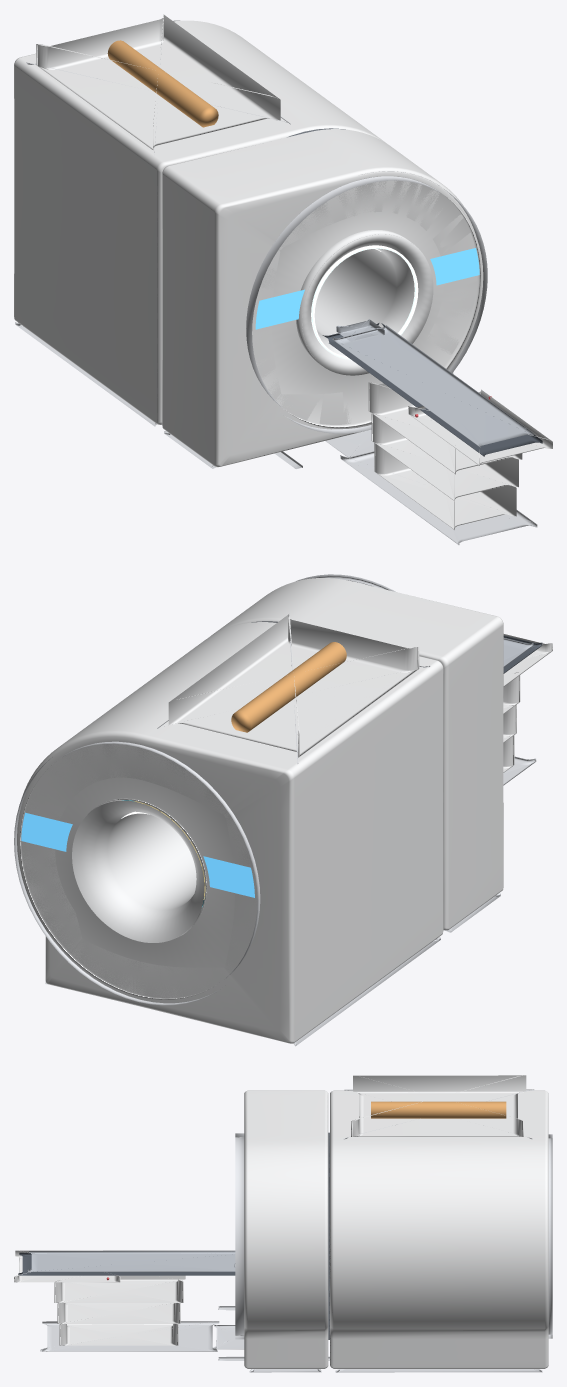
File: uexplorer.glb
3 renders of one model, top to bottom at view 1: azimuth 30°, elevation 25°; view 2: azimuth 150°, elevation 25°; view 3: azimuth 270°, elevation 25°, orthographic. The views are drawn at different scales.
Visible parts, largest first — view 1: Gantry_Shell_Main, CT_Shell_Main, Medallion_White_Face, Bore_Lining, Table_Mattress, Gantry_Top_Cryo_Shroud, Table_Column_Tier1, Table_Column_Tier2, Medallion_Silver_Collar, Table_Column_Tier3, PET_Water_Cooling_Manifold, Table_Silver_Floor_Plate (+7 smaller); view 2: Gantry_Shell_Main, CT_Shell_Main, Rear_Medallion_Face, Bore_Lining, Gantry_Top_Cryo_Shroud, PET_Water_Cooling_Manifold, Rear_Silver_Collar, Touchscreen_Rear_Left, Touchscreen_Rear_Right, PET_Floor_Tandem_Rails, Couch_White_Rear_Cradle; view 3: Gantry_Shell_Main, CT_Shell_Main, Table_Mattress, Gantry_Top_Cryo_Shroud, Table_Column_Tier3, Table_Column_Tier1, Table_Column_Tier2, PET_Water_Cooling_Manifold, Table_Silver_Floor_Plate, Medallion_Silver_Collar, Couch_CarbonFiber_Pallet, Couch_White_Rear_Cradle (+4 smaller).
Part boxes in pixels (box(x1,y1,x2,y2)): Gantry_Shell_Main: box(14, 20, 386, 424); CT_Shell_Main: box(162, 129, 477, 467); Medallion_White_Face: box(246, 176, 483, 428); Bore_Lining: box(296, 230, 433, 375); Table_Mattress: box(332, 325, 533, 447); Gantry_Top_Cryo_Shroud: box(36, 14, 280, 149); Table_Column_Tier1: box(374, 443, 516, 529); Table_Column_Tier2: box(371, 414, 518, 501); Medallion_Silver_Collar: box(246, 171, 487, 433); Table_Column_Tier3: box(368, 382, 522, 474); PET_Water_Cooling_Manifold: box(107, 40, 218, 127); Table_Silver_Floor_Plate: box(340, 451, 537, 544); Gantry_Shell_Main: box(17, 622, 443, 1043); CT_Shell_Main: box(210, 578, 503, 930); Rear_Medallion_Face: box(19, 743, 257, 999); Bore_Lining: box(72, 800, 204, 942); Gantry_Top_Cryo_Shroud: box(168, 614, 419, 757); PET_Water_Cooling_Manifold: box(231, 642, 346, 732); Rear_Silver_Collar: box(14, 741, 260, 1005); Touchscreen_Rear_Left: box(203, 856, 254, 897); Touchscreen_Rear_Right: box(21, 812, 72, 851); PET_Floor_Tandem_Rails: box(45, 937, 440, 1046); Couch_White_Rear_Cradle: box(503, 634, 552, 686); Gantry_Shell_Main: box(330, 1090, 548, 1368); CT_Shell_Main: box(244, 1090, 328, 1368); Table_Mattress: box(27, 1250, 235, 1271); Gantry_Top_Cryo_Shroud: box(351, 1075, 526, 1136); Table_Column_Tier3: box(54, 1275, 185, 1302); Table_Column_Tier1: box(59, 1303, 180, 1345); Table_Column_Tier2: box(57, 1280, 182, 1323); PET_Water_Cooling_Manifold: box(371, 1101, 506, 1118); Table_Silver_Floor_Plate: box(40, 1321, 219, 1351); Medallion_Silver_Collar: box(235, 1133, 244, 1339); Couch_CarbonFiber_Pallet: box(18, 1252, 235, 1275); Couch_White_Rear_Cradle: box(14, 1250, 120, 1282).
Bounding box in the file's own units: 2.29 × 2.36 × 5.38.
